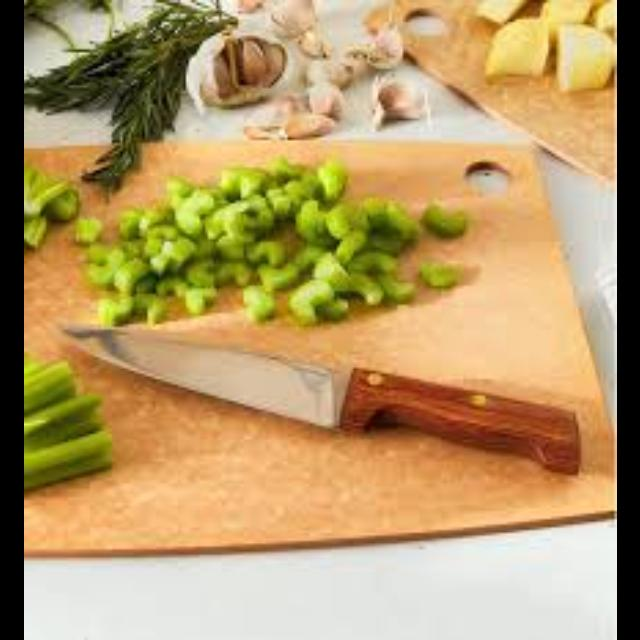Knife: (59, 319, 580, 475)
